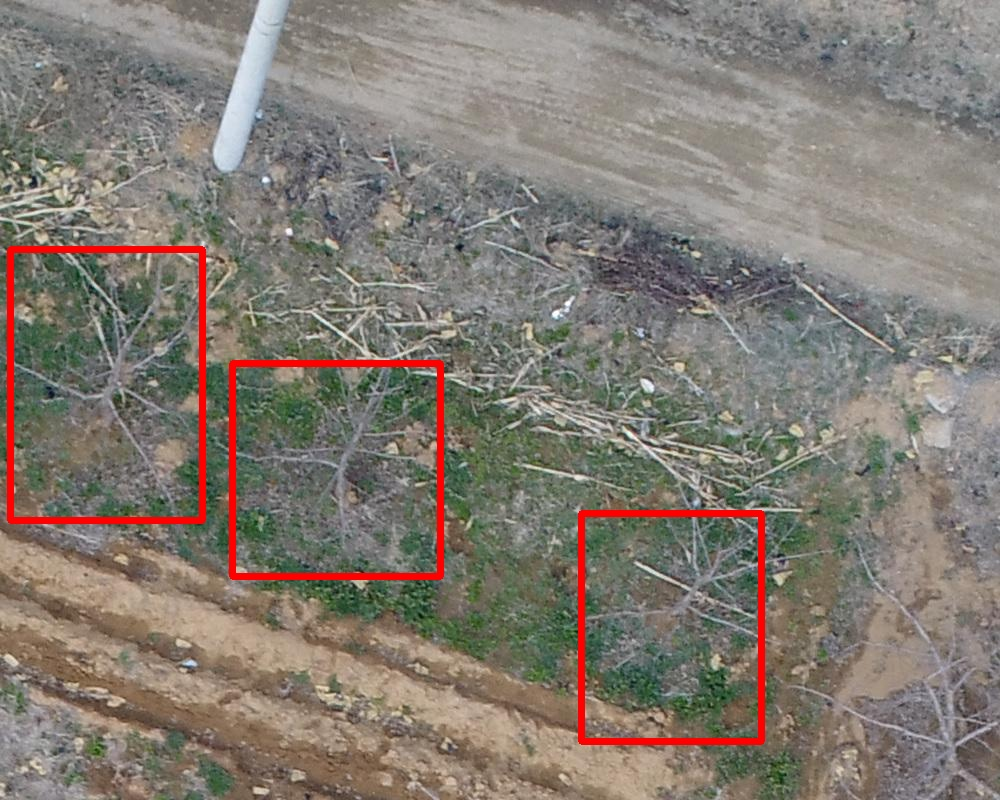apple: (10, 249, 202, 520), (232, 363, 440, 576), (581, 513, 761, 741)
